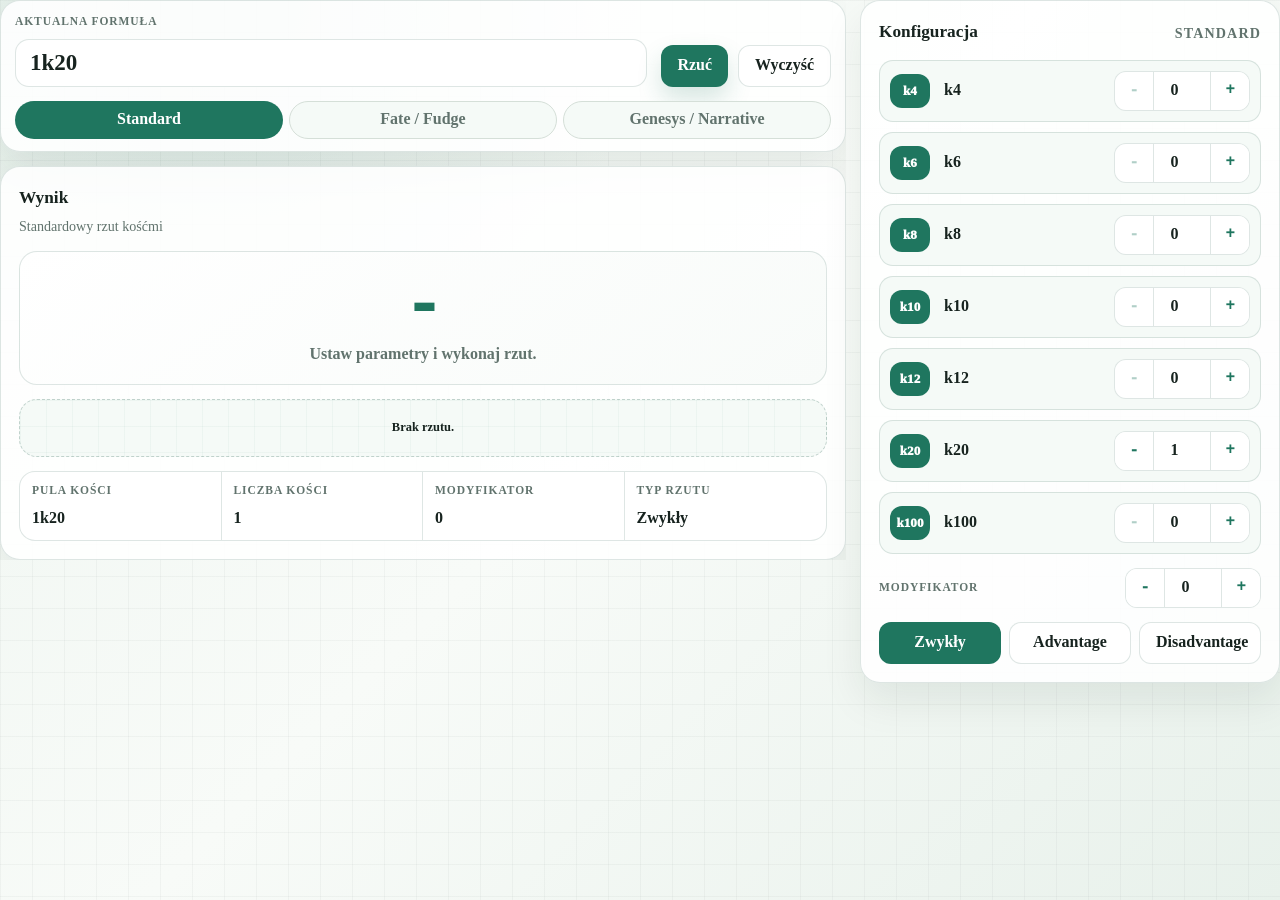
Test: DicePage › roll mechanic still works after layout refresh
Click the button "Rzuć" at (695, 66), box 661,45 -> 728,87
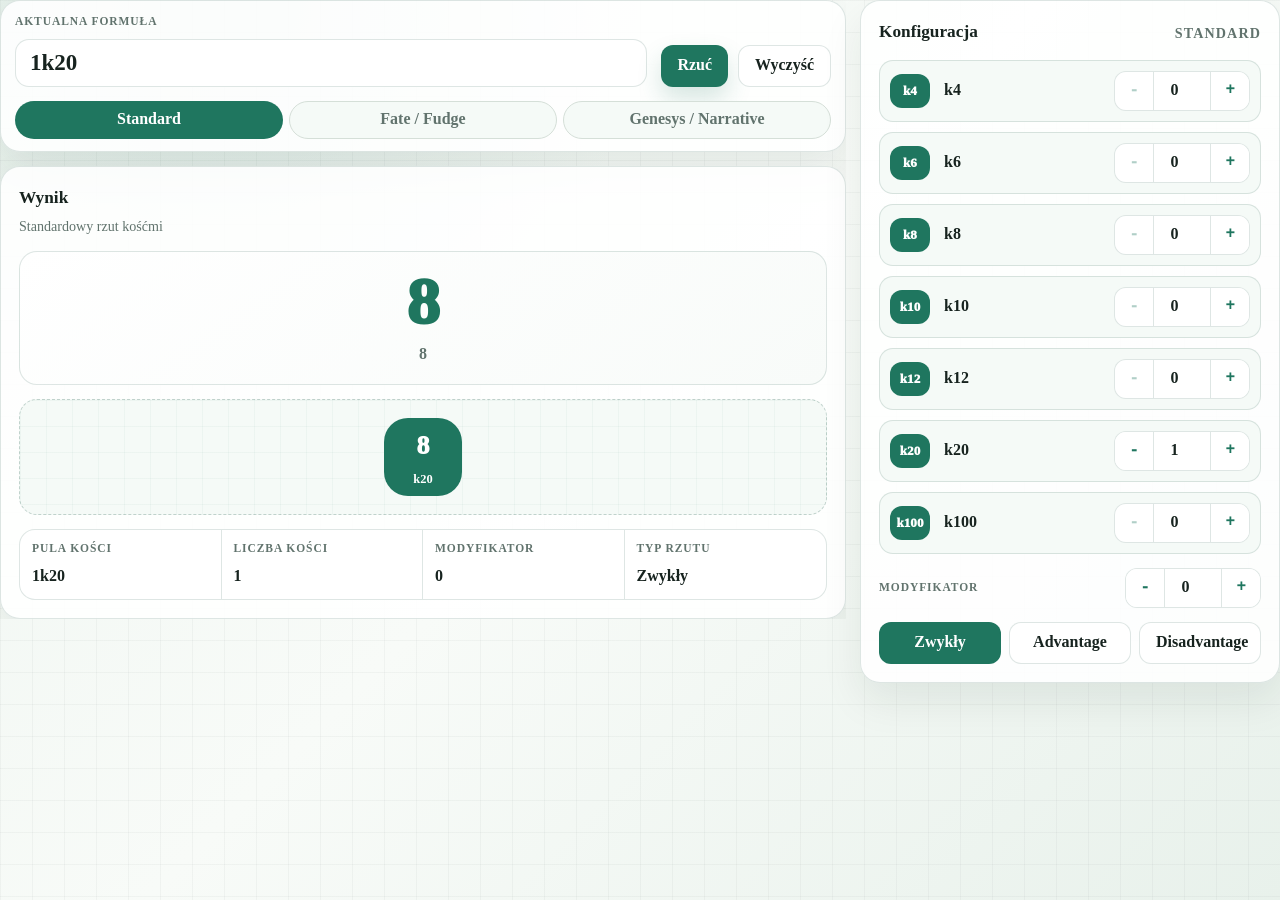
Expected: the text with class "diceBigNumber" is shown, 406,270 -> 440,334
Expected: the element with class "diceBigNumber" no longer shows "-"
